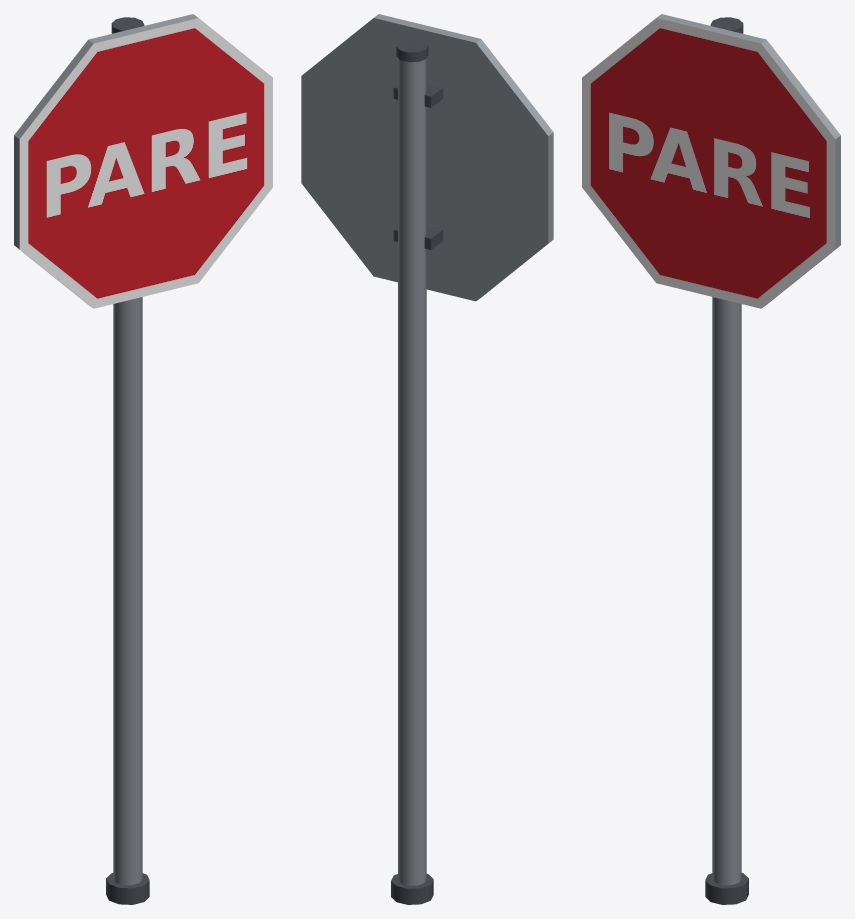
Rendered from placa-pare.glb.
3 views of the same model, side by side, from view 1: azimuth 30°, elevation 25°; view 2: azimuth 150°, elevation 25°; view 3: azimuth 330°, elevation 25° (orthographic). The views are drawn at different scales.
Parts seen in each view (by area): view 1: Placa, Poste; view 2: Placa, Poste, Suportes; view 3: Placa, Poste.
Boxes of the visible parts, bbox=[...] form: Placa: bbox=[14, 14, 272, 308]; Poste: bbox=[106, 17, 149, 904]; Placa: bbox=[301, 14, 553, 301]; Poste: bbox=[391, 39, 433, 904]; Suportes: bbox=[393, 83, 443, 249]; Placa: bbox=[582, 14, 840, 308]; Poste: bbox=[705, 17, 748, 904].
Bounding box in the file's own units: 0.8 × 2.65 × 0.1571.
Materials: 4 (1 with a texture image).
